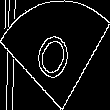O_SW: (31, 20, 79, 90)
